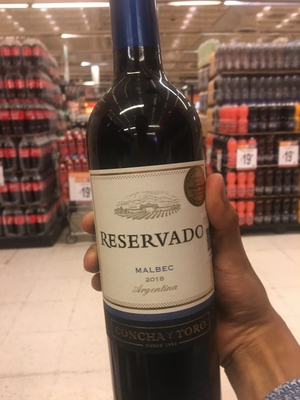reservado malbec: (87, 14, 218, 400)
